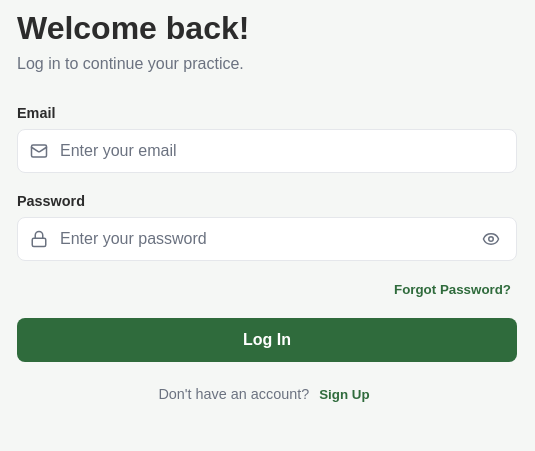
LoginForm › shows an error message and does not log in when the fields are empty
click "Log In" without typing anything
Click the button "Log In": [267, 340] box [17,318,517,362]
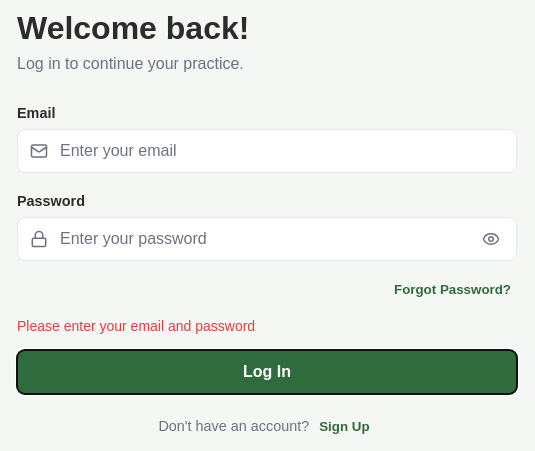
Expected: the message reads "Please enter your email and password", [17,318,255,334]
